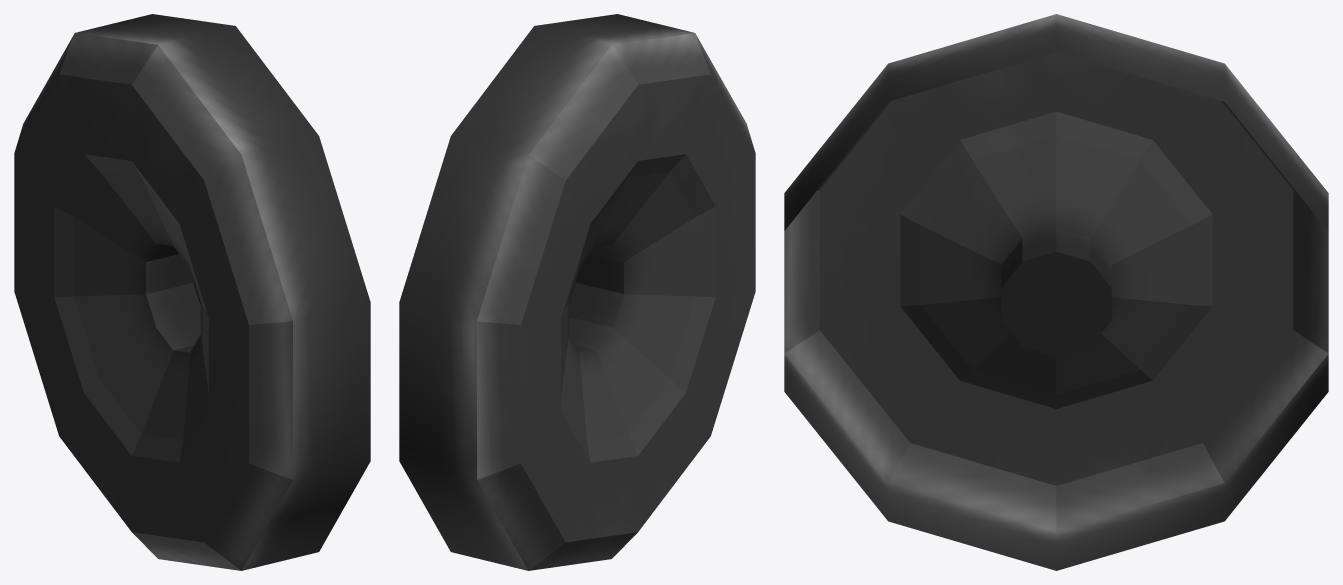
Rendered from SM_arrowTrap_TRAP.fbx.
3 renders of one model, left to right at view 1: azimuth 30°, elevation 25°; view 2: azimuth 150°, elevation 25°; view 3: azimuth 270°, elevation 25°, orthographic.
Visible parts, largest first — view 1: SM_arrowTrap_TRAP; view 2: SM_arrowTrap_TRAP; view 3: SM_arrowTrap_TRAP.
Part boxes in pixels (<box>): SM_arrowTrap_TRAP: <box>14,14,370,570</box>; SM_arrowTrap_TRAP: <box>399,14,755,570</box>; SM_arrowTrap_TRAP: <box>784,14,1328,570</box>.
Bounding box in the file's own units: 0.1041 × 0.4915 × 0.4674.
